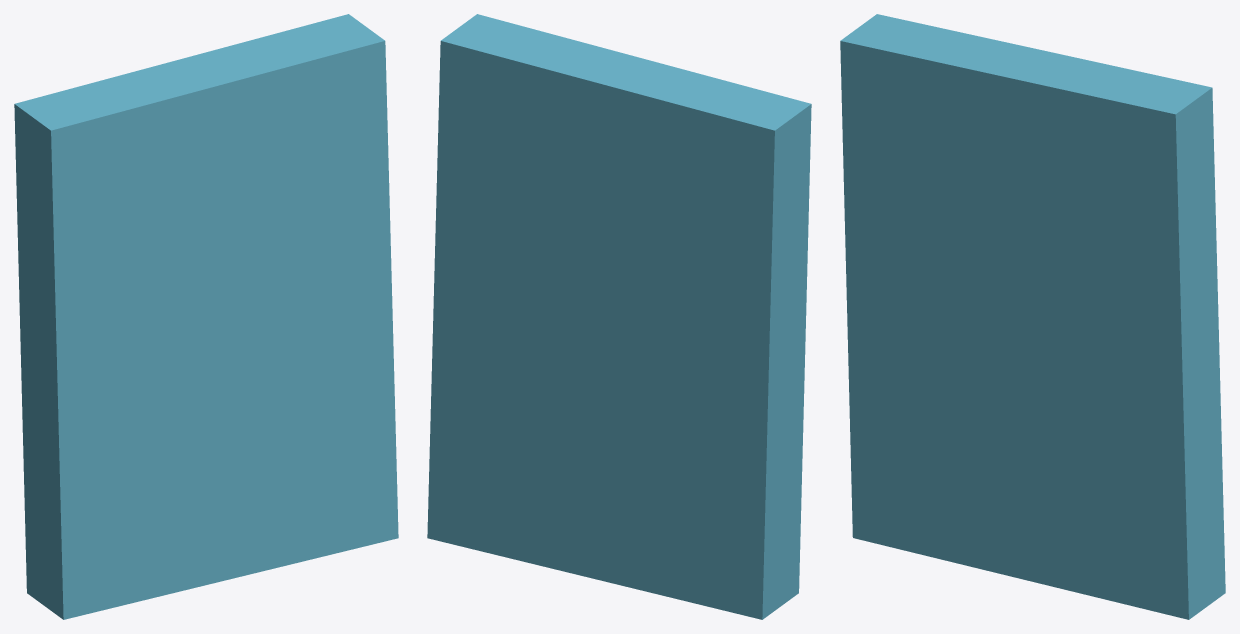
3 renders of one model, left to right at view 1: azimuth 30°, elevation 25°; view 2: azimuth 150°, elevation 25°; view 3: azimuth 330°, elevation 25°, orthographic.
Visible parts, largest first — view 1: geometry_0; view 2: geometry_0; view 3: geometry_0.
Boxes of the visible parts, left/top/right/bottom form: geometry_0: left=14, top=14, right=398, bottom=619; geometry_0: left=427, top=14, right=811, bottom=619; geometry_0: left=840, top=14, right=1225, bottom=619.
Bounding box in the file's own units: 16.44 × 22.62 × 3.
